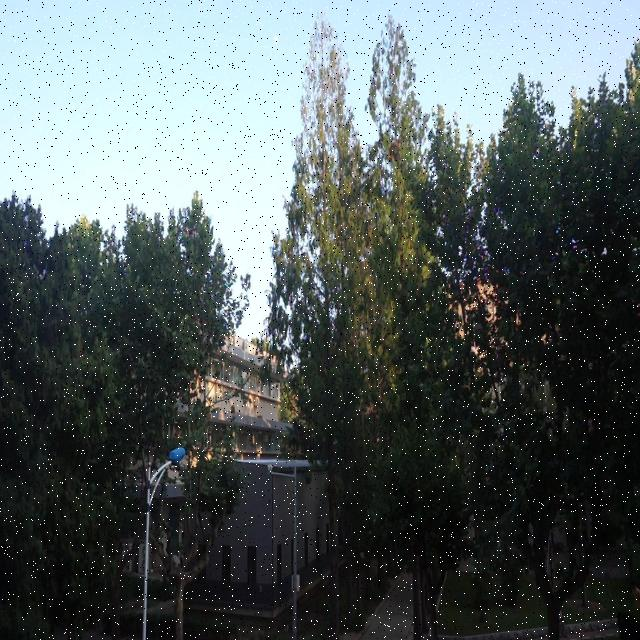UAV: (185, 224, 199, 238)
